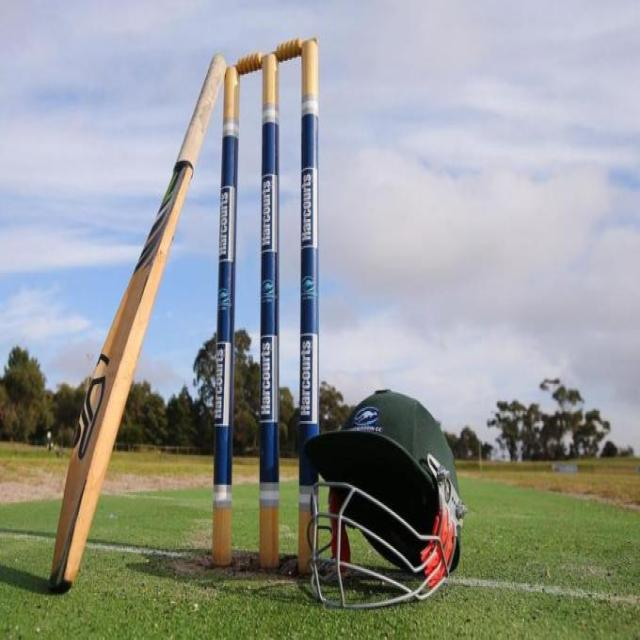stump: (224, 36, 317, 564)
